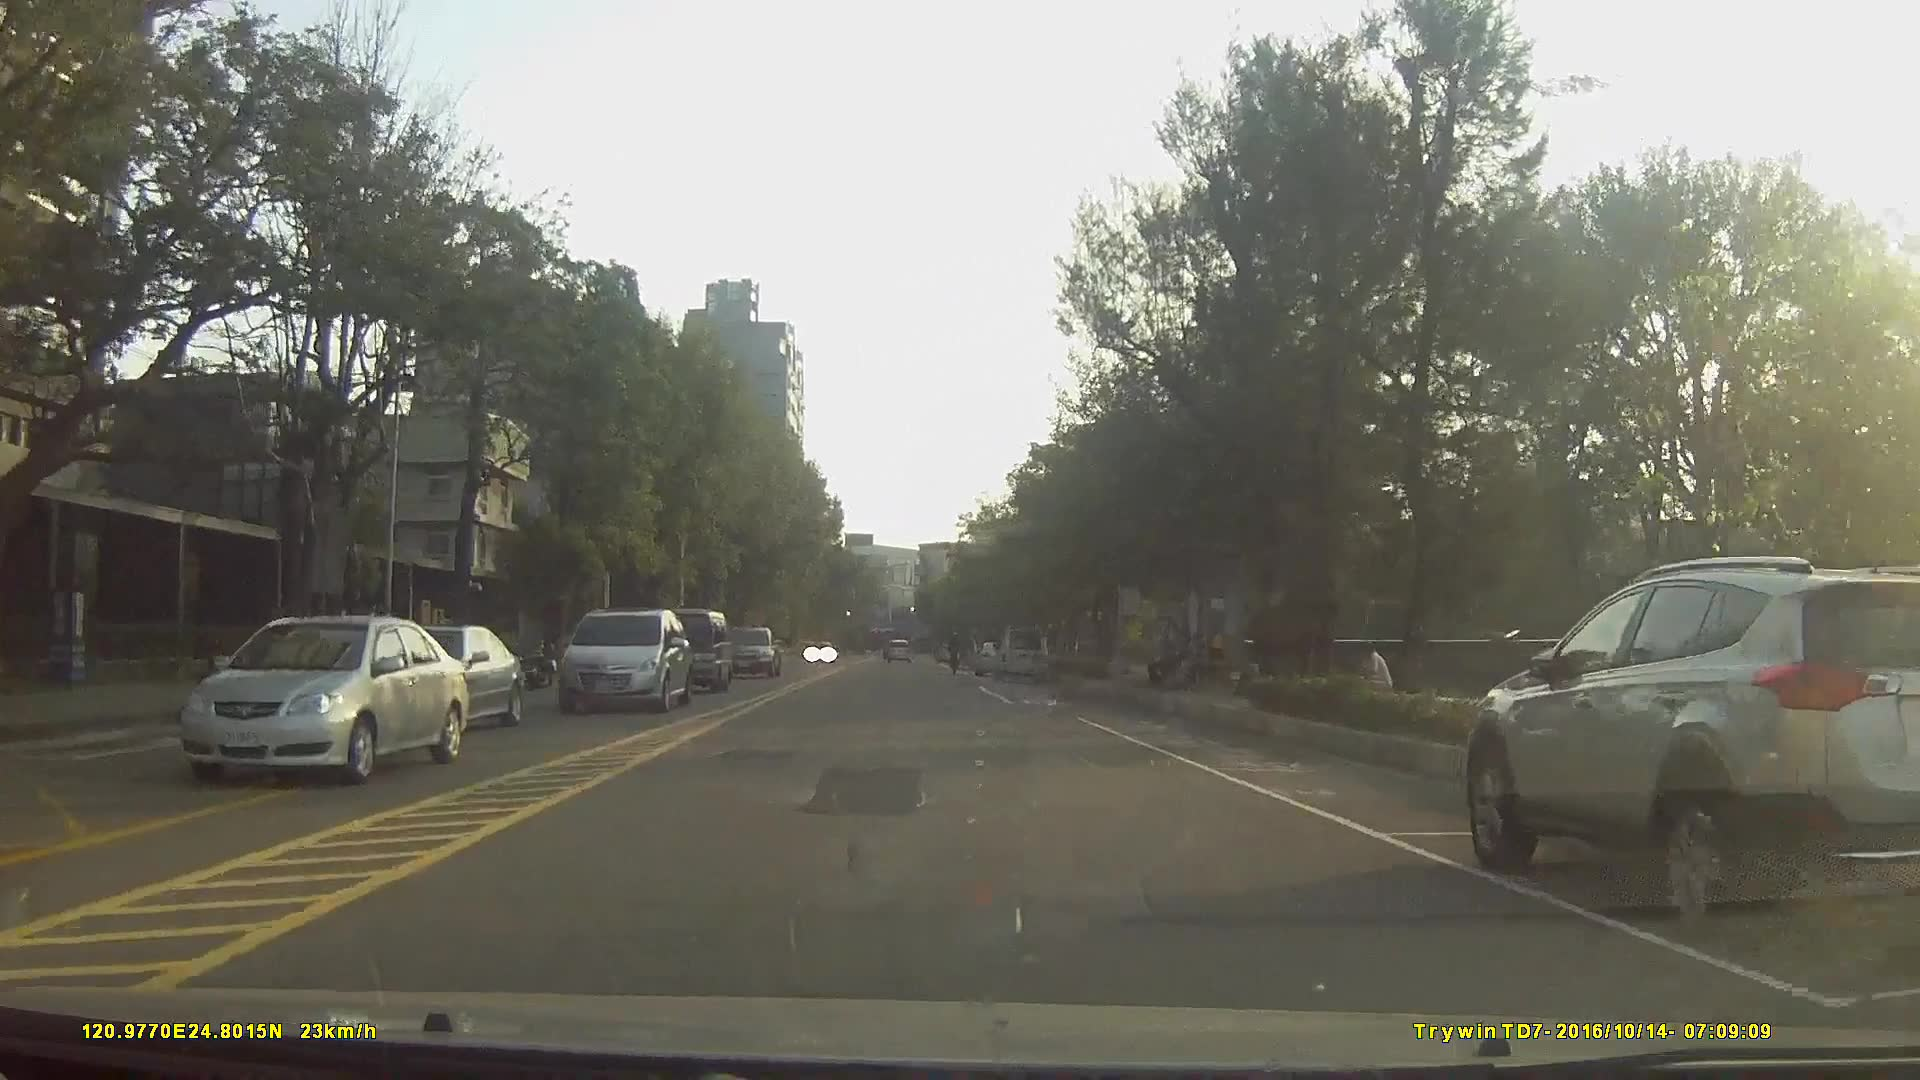rider: (945, 631, 965, 675)
vehicle: (1459, 554, 1920, 945), (174, 613, 471, 786), (375, 622, 524, 735), (554, 608, 693, 715), (641, 607, 731, 691), (988, 624, 1051, 681), (719, 625, 777, 678), (972, 638, 1009, 677), (881, 636, 911, 665)
